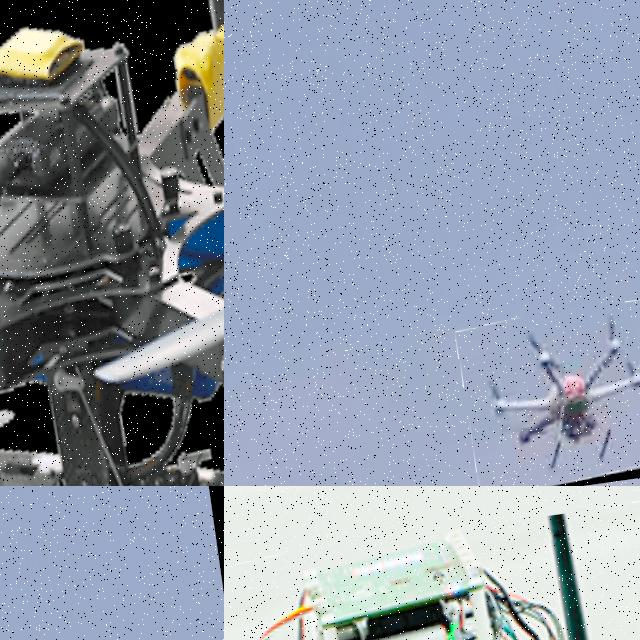drone: (0, 0, 224, 486), (224, 488, 640, 640), (455, 299, 640, 486)
